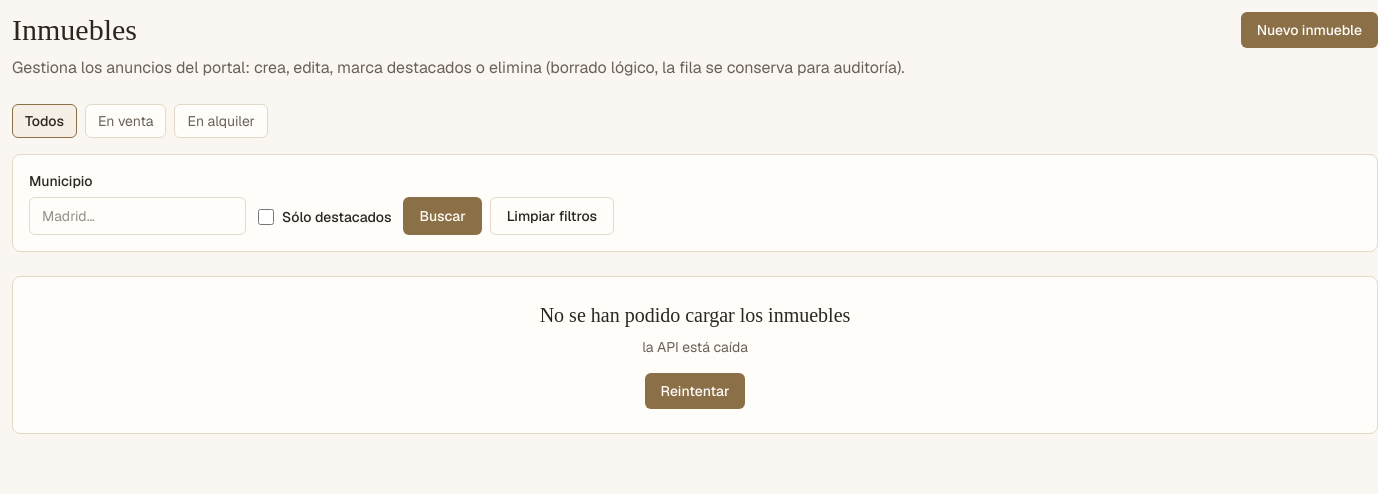
Test: PanelInmuebles — listado › si_la_carga_falla_muestra_el_error_y_permite_reintentar
Check: the message shows "la API está caída", box [642,338,748,356]
Click the button "Reintentar" at (695, 391), box [645,373,745,409]
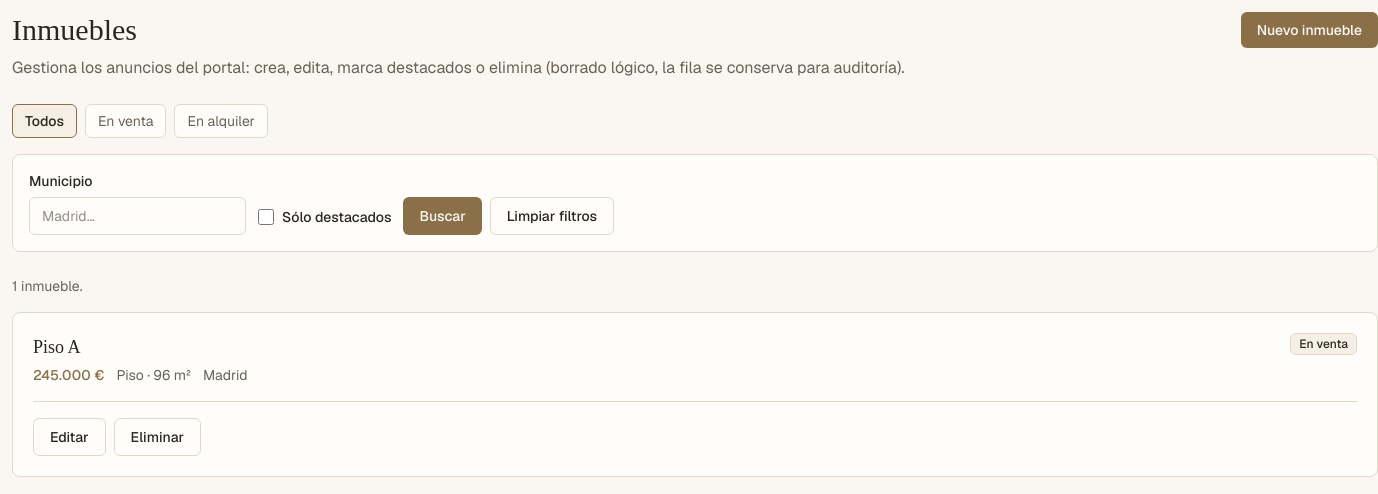
Check: the heading "Piso A" is shown, box [33,337,80,357]
